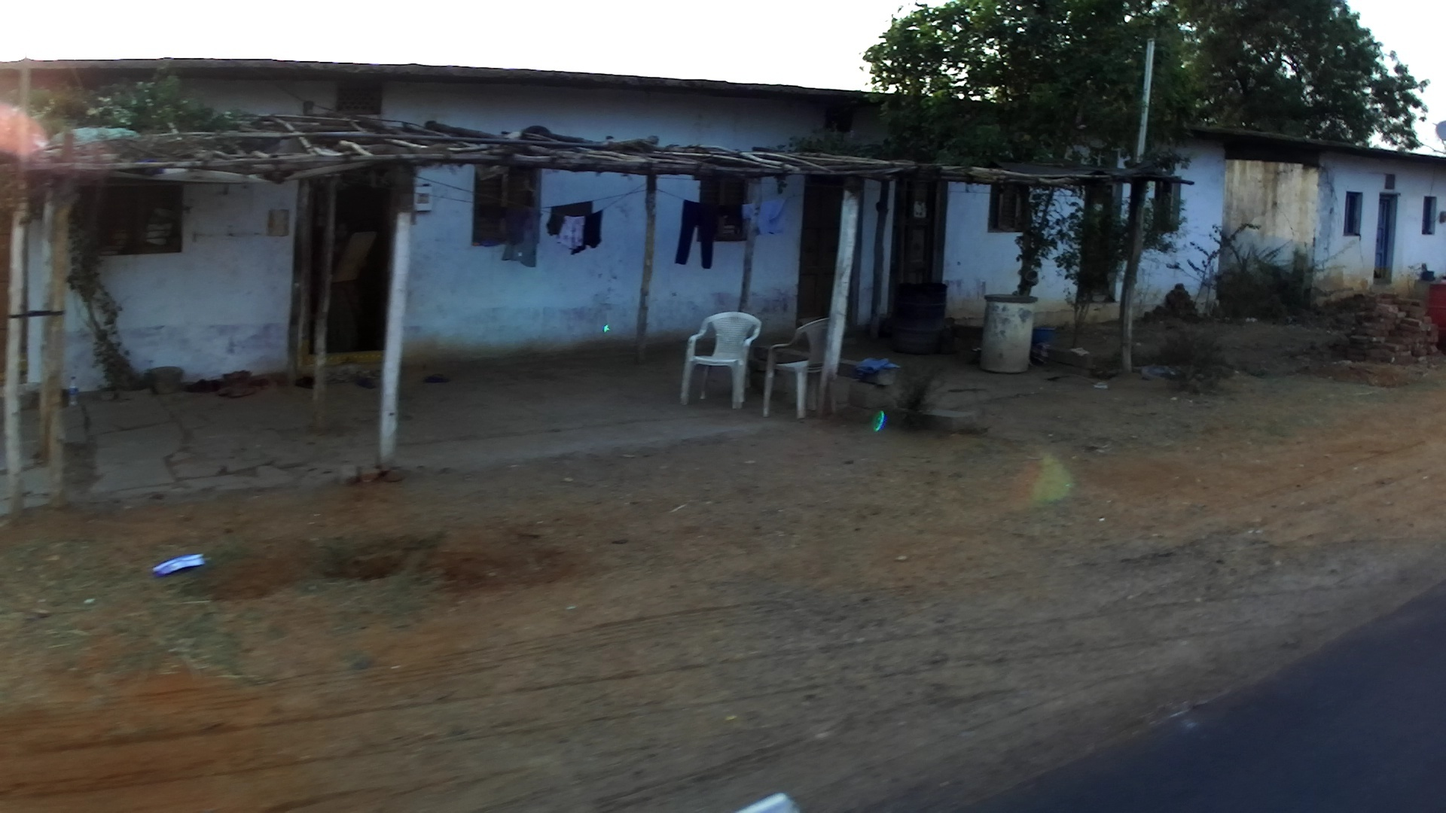person: (317, 219, 373, 350)
truck: (1420, 278, 1444, 356)
